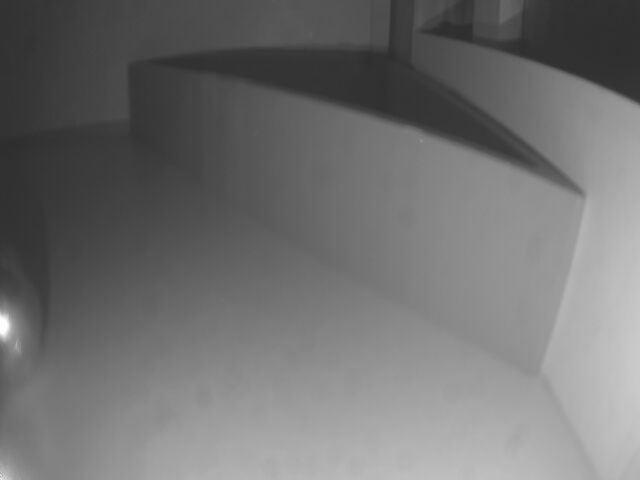Live: (0, 249, 43, 396)
Point: (119, 50, 583, 387)
